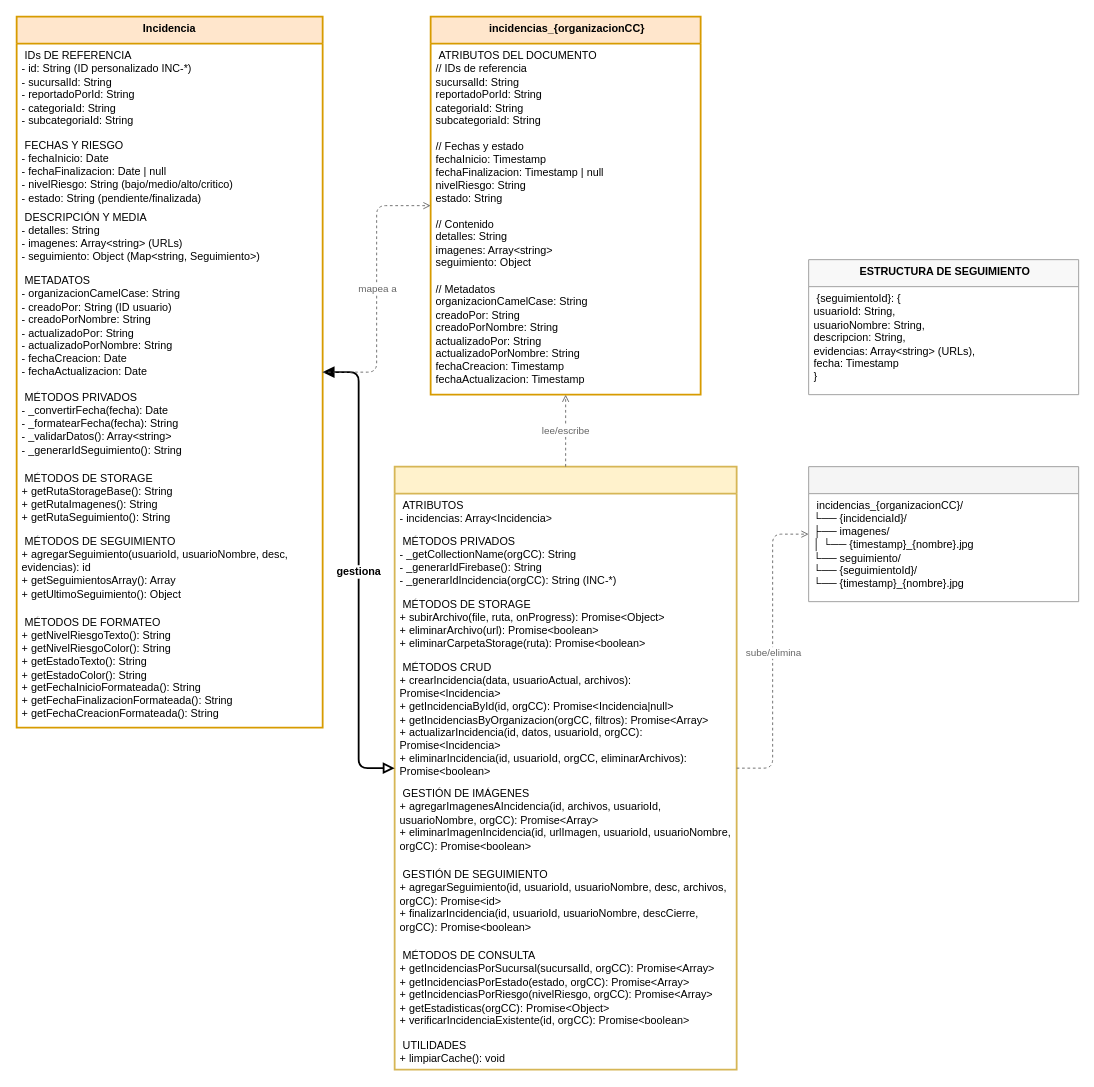
Some shapes in this 1094 by 1087 pixel diagram are drawn without their labels. The box of each missing label's shape, as (x1, y1, x2, y2) in pixels:
ESTRUCTURA DE CARPETAS: (808, 466, 1079, 602)
IncidenciaManager: (393, 465, 737, 1070)
